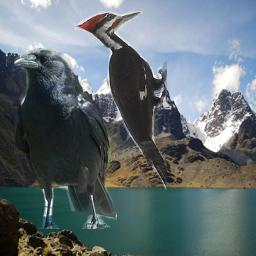Crow: (14, 48, 117, 229)
Woodpecker: (74, 11, 167, 190)
